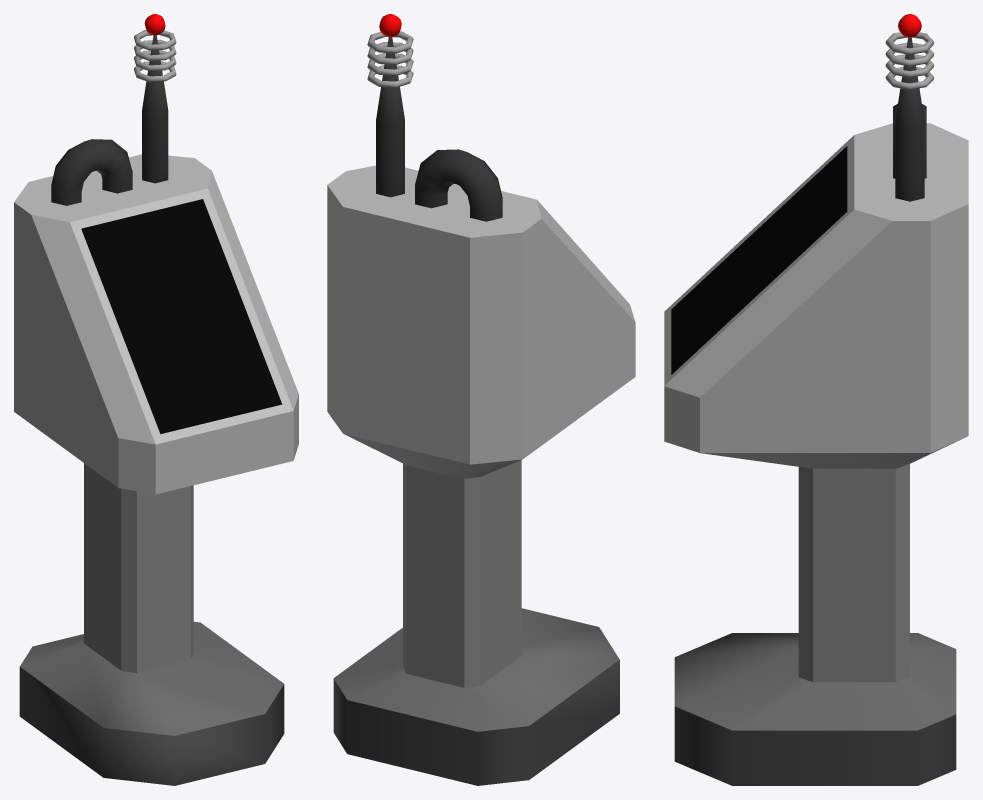
File: SM_Terminal_01.fbx
3 renders of one model, left to right at view 1: azimuth 30°, elevation 25°; view 2: azimuth 150°, elevation 25°; view 3: azimuth 270°, elevation 25°, orthographic. The views are drawn at different scales.
Visible parts, largest first — view 1: SM_Terminal_01; view 2: SM_Terminal_01; view 3: SM_Terminal_01.
Part boxes in pixels (x1,y1,x2,y2): SM_Terminal_01: (14,14,298,785); SM_Terminal_01: (327,14,635,785); SM_Terminal_01: (664,14,968,785).
Bounding box in the file's own units: 35.99 × 128 × 47.39.
1 material, 1 textured.
